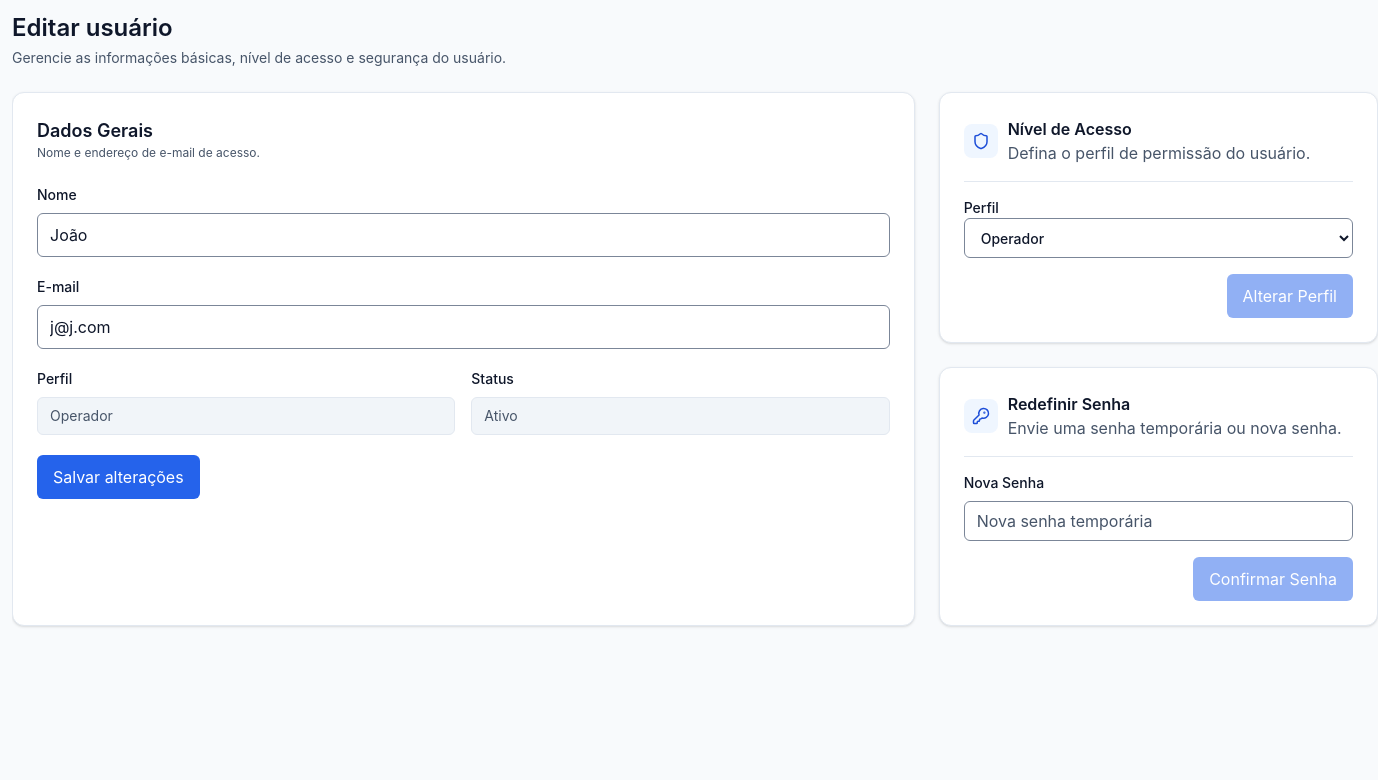
Test: EditarUsuarioPage — salvar, perfil e senha › deve alterar o perfil e confirmar quando outro perfil é escolhido
Select "Gestor" in the dropdown labelled "Perfil": (1158, 238) top-left (964, 218), bottom-right (1353, 258)
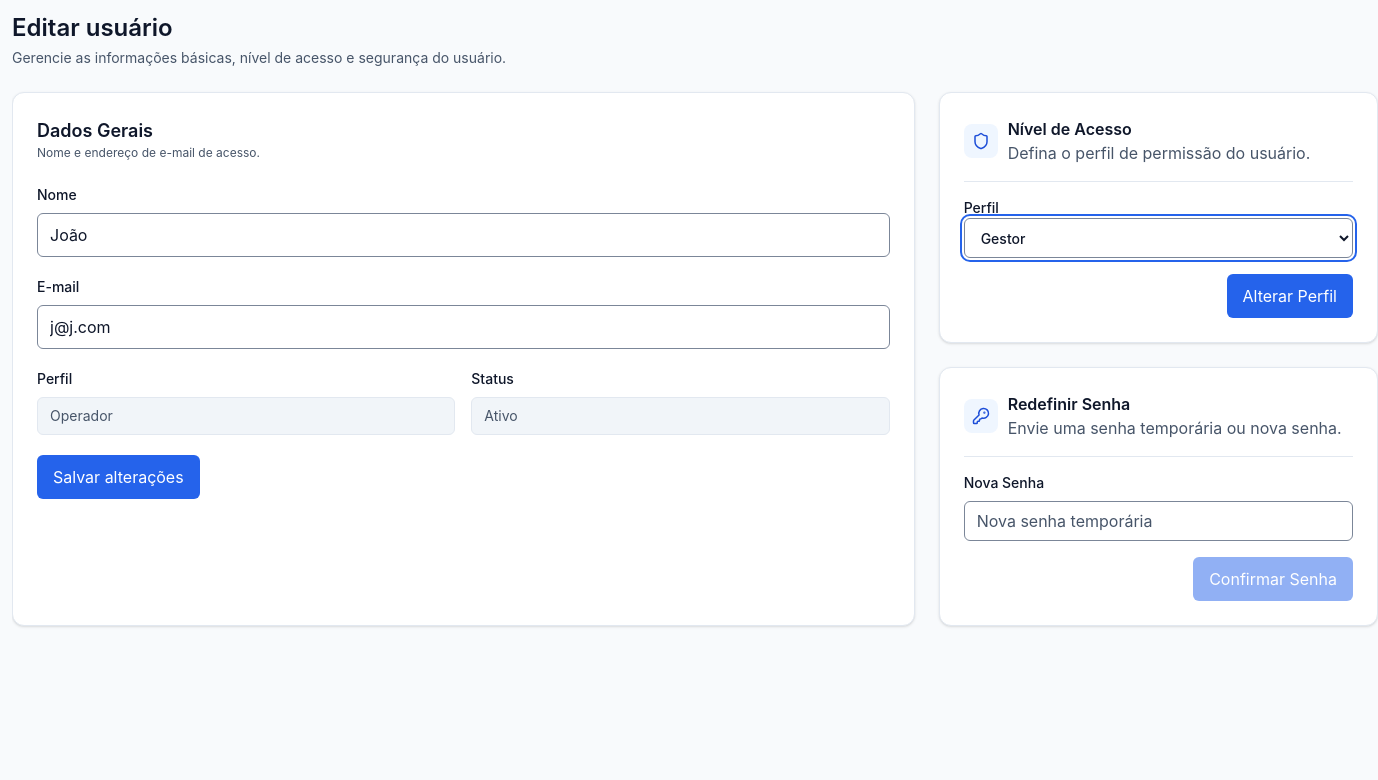
Click the button "Alterar Perfil": (1290, 296) top-left (1226, 274), bottom-right (1353, 318)
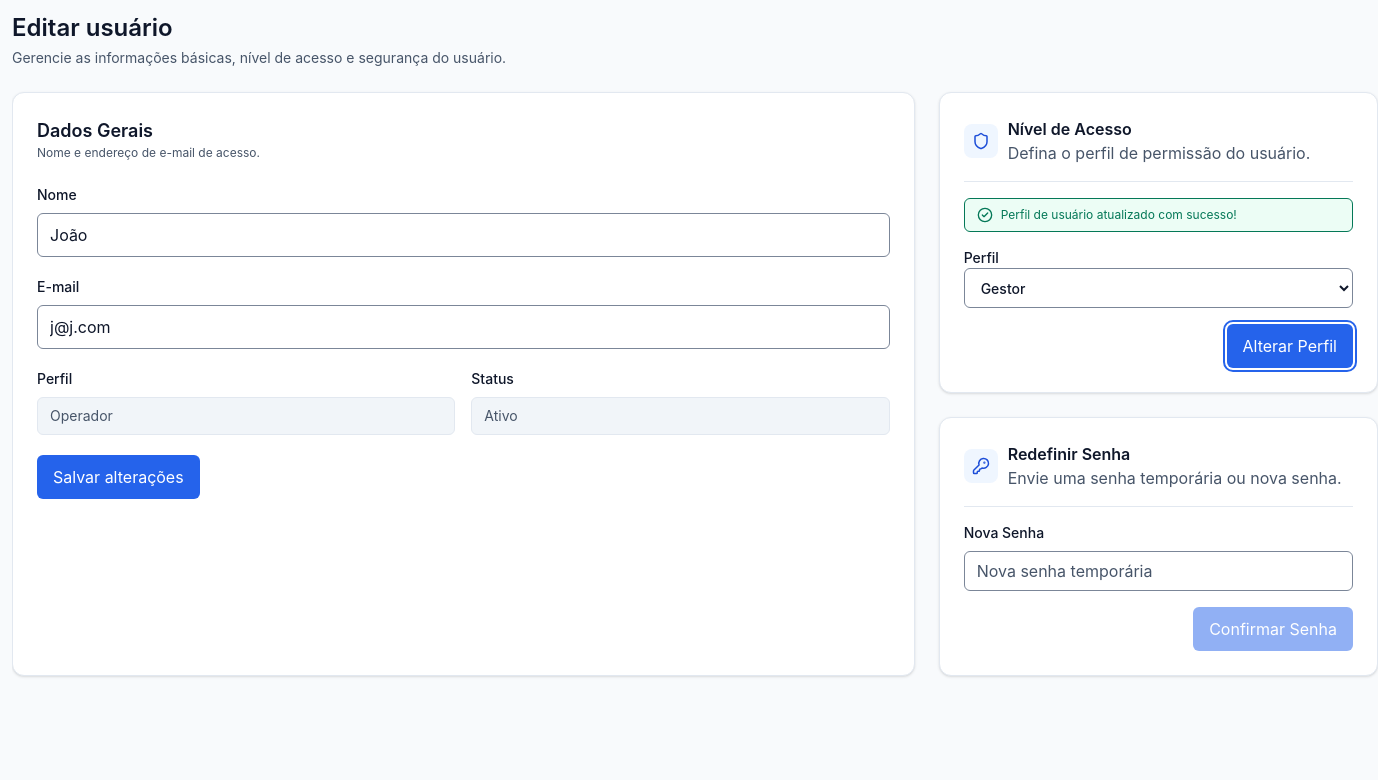
Expected: the text "Perfil de usuário atualizado com sucesso!" is shown, top-left (1001, 207), bottom-right (1237, 223)
